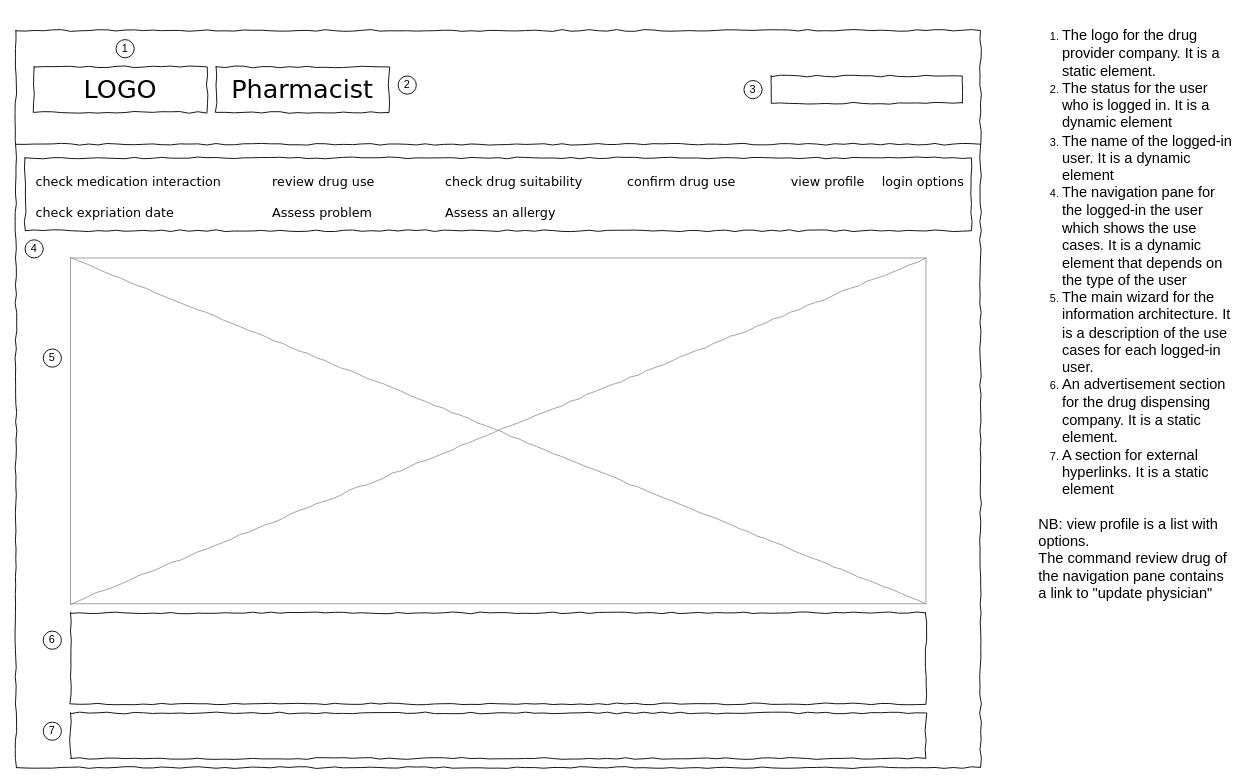
Image size: 1249x784. Some labels were removed from this diagram. The centre of each missing label's shape, as x and y in pixels:
"At drug consultancy, your health is our ultimate focus" belongs at (x=498, y=658).
"External Links" belongs at (x=498, y=735).
"Mr Arsene Wasumba" belongs at (x=866, y=89).
